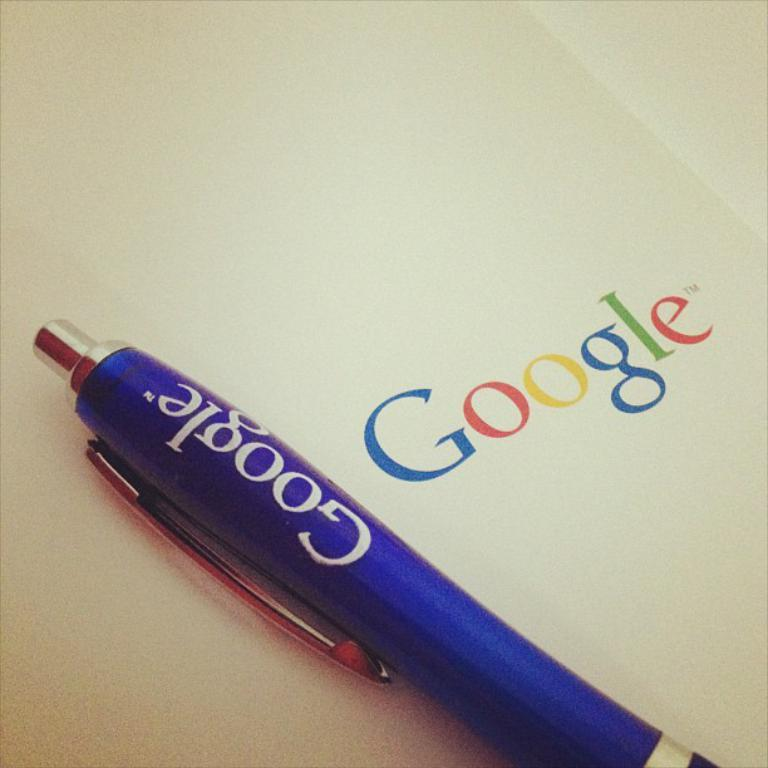pen: (30, 316, 720, 767)
